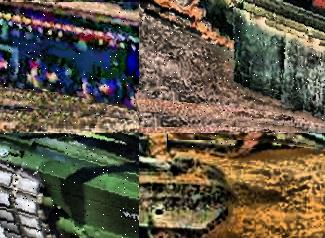tanks: (140, 1, 325, 125), (1, 4, 140, 116), (1, 134, 140, 238), (140, 134, 237, 238), (171, 134, 320, 157), (292, 134, 325, 150)
